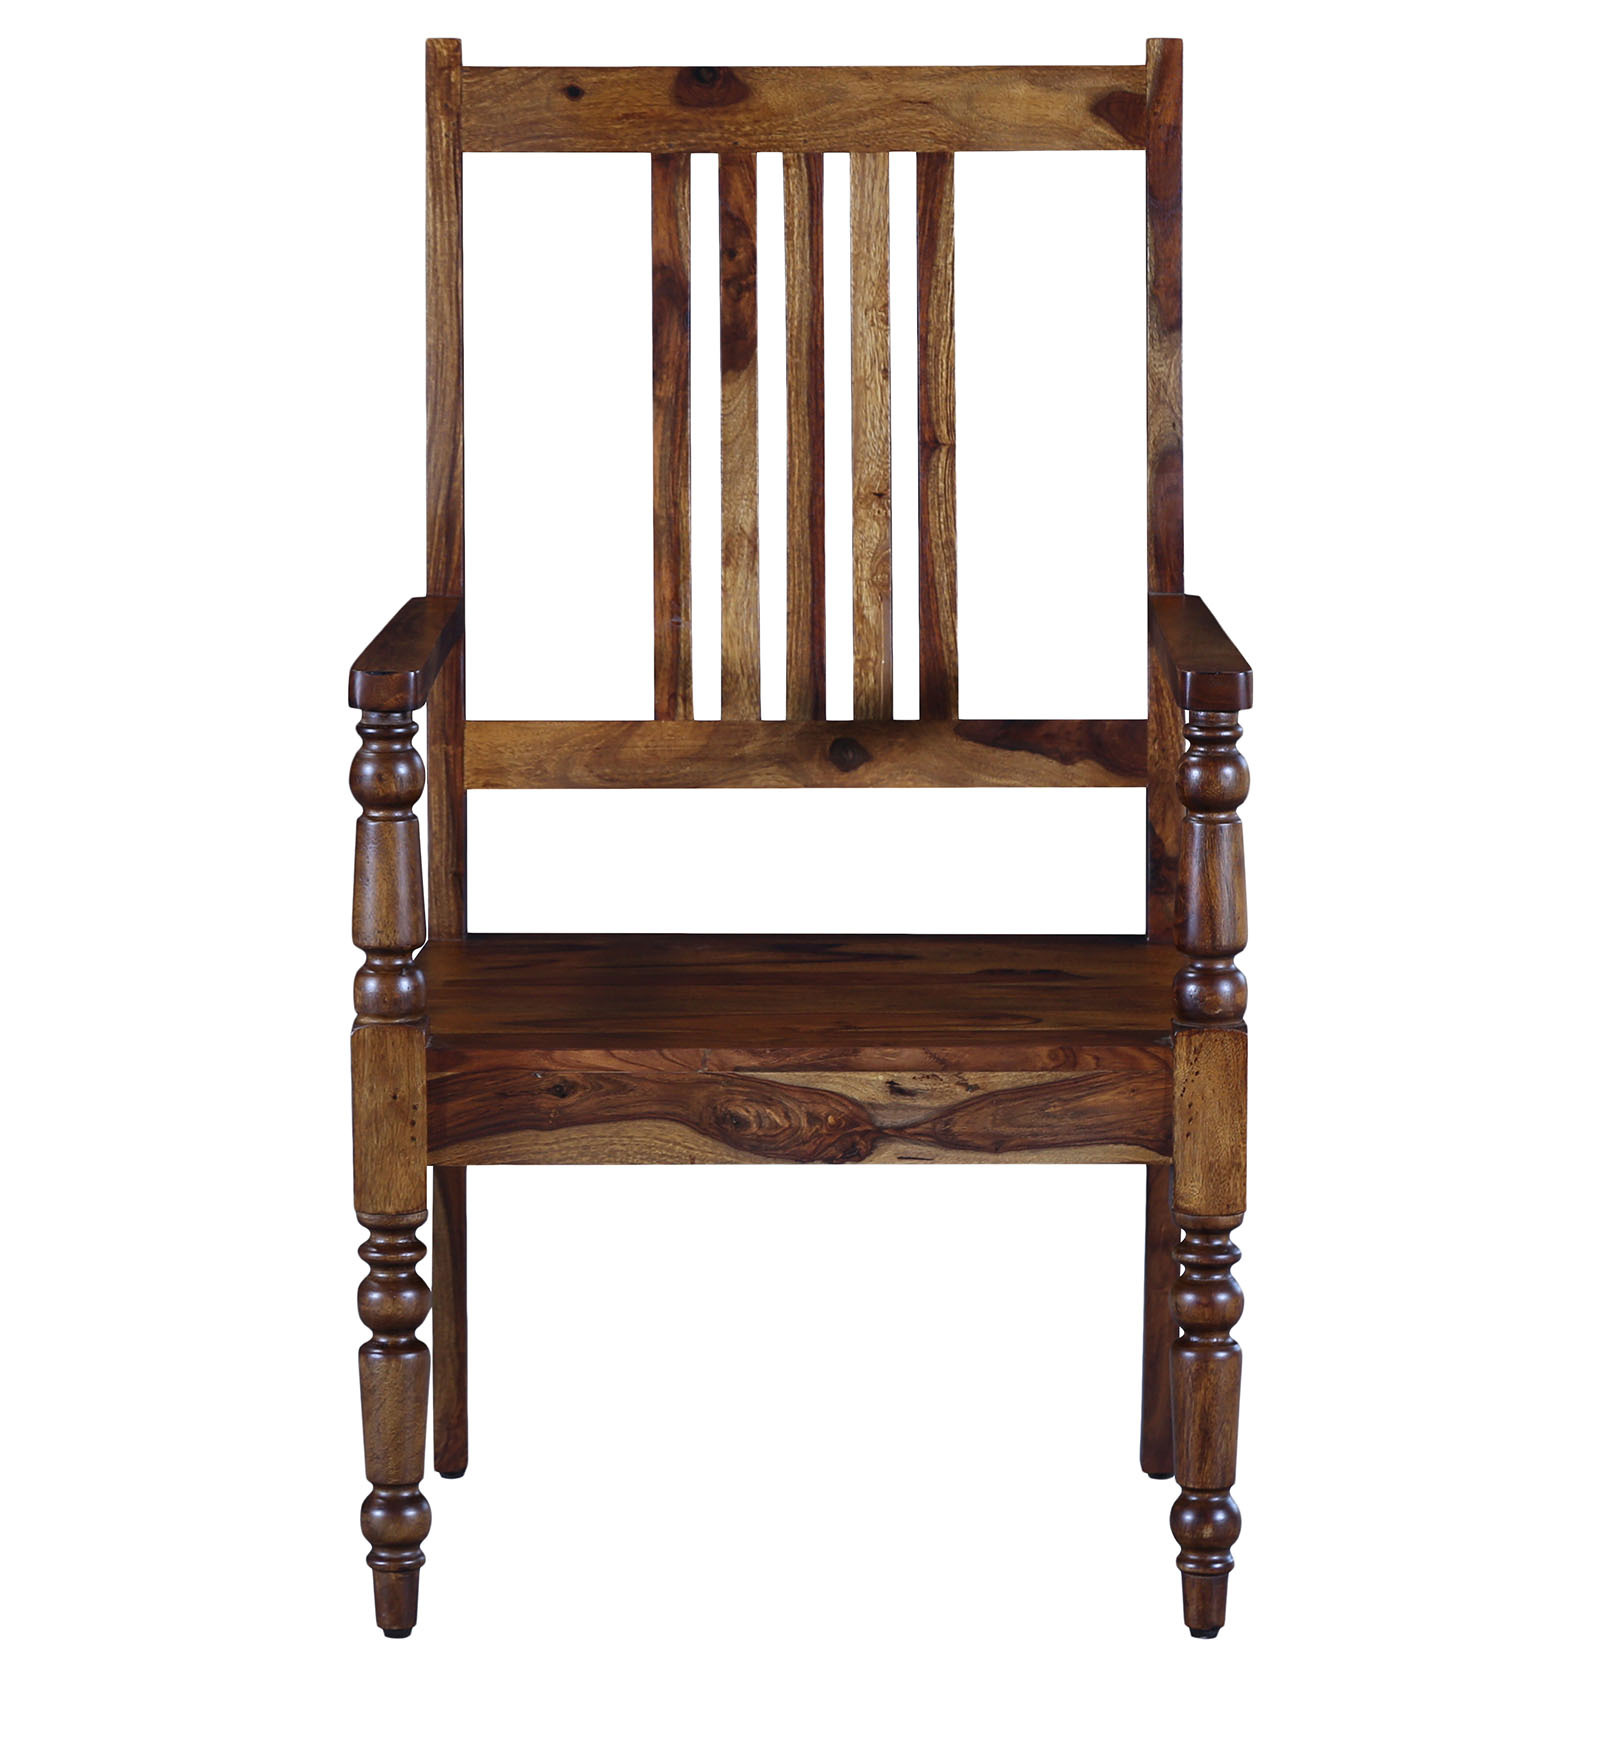Harleston Arm Chair in Provincial Teak Finish by Amberville: (317, 17, 1301, 1680)
